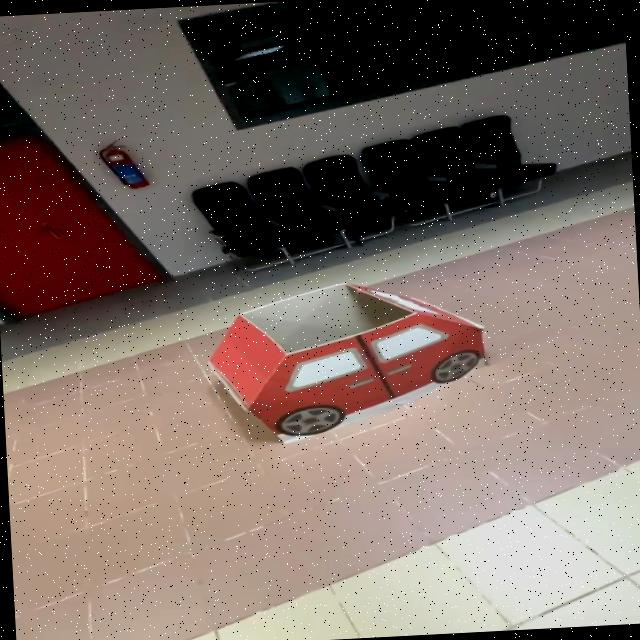red_car: (151, 263, 538, 475)
